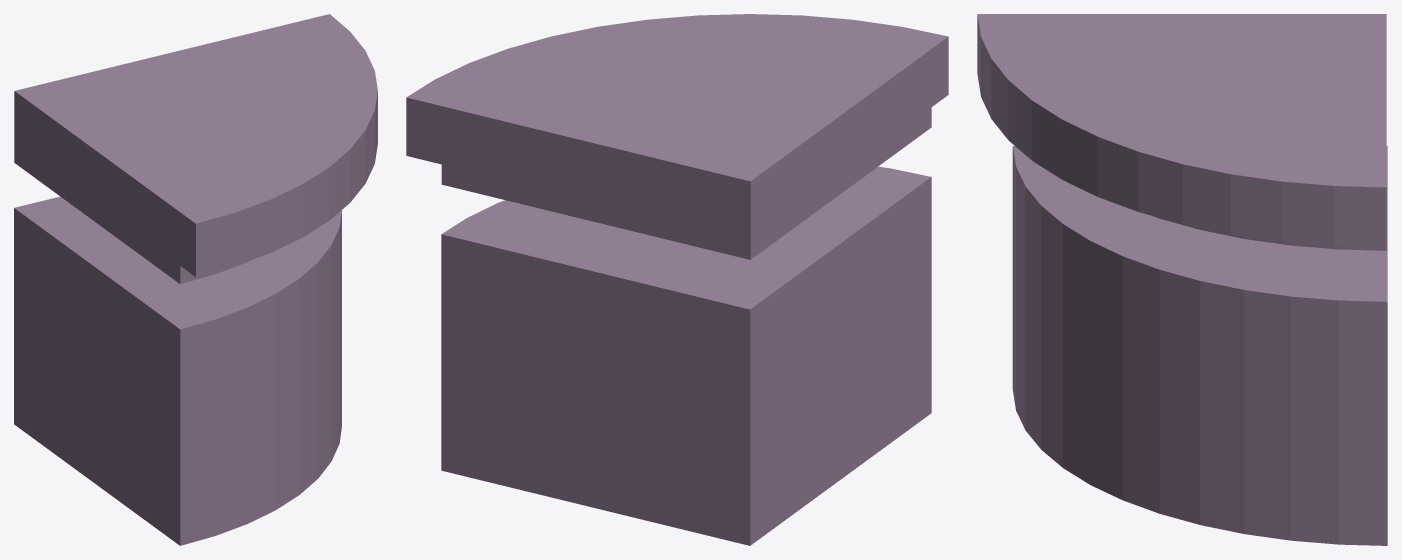
Rendered from SM_Counter_Corner_L_v2.fbx.
3 views of the same model, side by side, from view 1: azimuth 30°, elevation 25°; view 2: azimuth 150°, elevation 25°; view 3: azimuth 270°, elevation 25° (orthographic). The views are drawn at different scales.
Parts seen in each view (by area): view 1: CornerL_SGCabinet.BOTTOM, CornerL_SGCabinet.TOP; view 2: CornerL_SGCabinet.BOTTOM, CornerL_SGCabinet.TOP; view 3: CornerL_SGCabinet.BOTTOM, CornerL_SGCabinet.TOP.
Part boxes in pixels (x1,y1,x2,y2): CornerL_SGCabinet.BOTTOM: (14, 196, 341, 545); CornerL_SGCabinet.TOP: (14, 14, 377, 283); CornerL_SGCabinet.BOTTOM: (441, 166, 931, 545); CornerL_SGCabinet.TOP: (406, 14, 948, 259); CornerL_SGCabinet.BOTTOM: (1012, 146, 1387, 545); CornerL_SGCabinet.TOP: (977, 14, 1386, 250).
Size of the model in its own units: 236 by 238 by 235.
